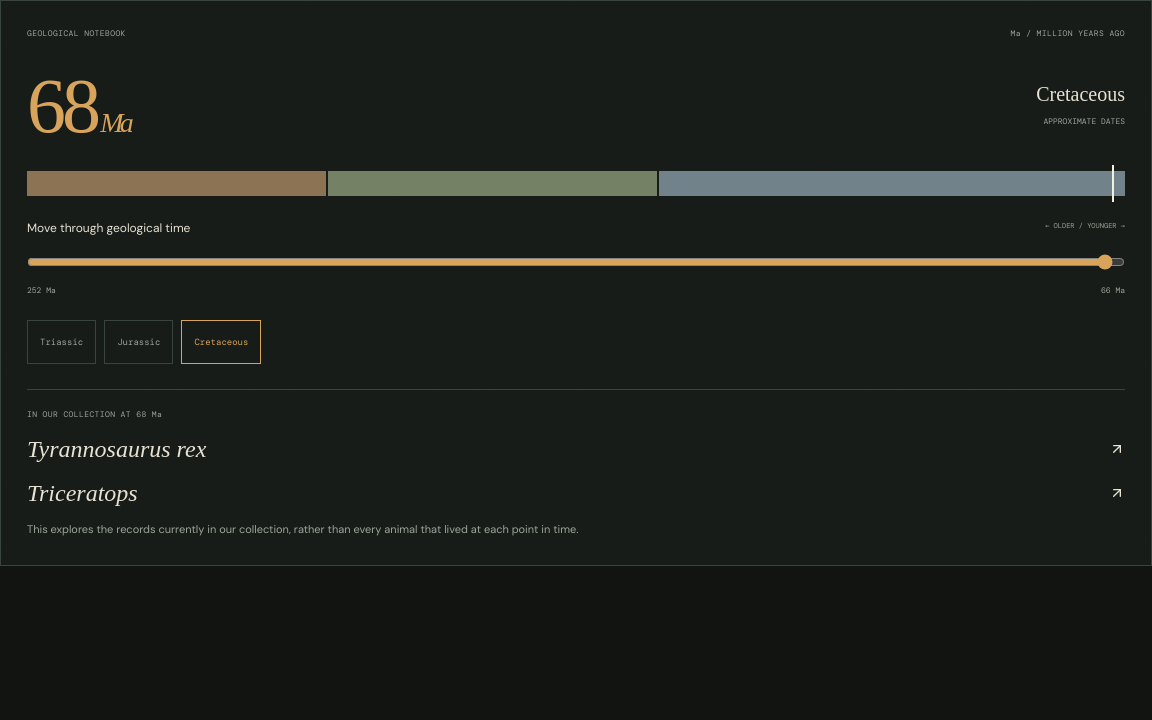
Test: deep time explorer › shows the published record at its known interval and updates the collection by age
Click the button "Jurassic".
click(139, 342)  # box left=104, top=320, right=173, bottom=364
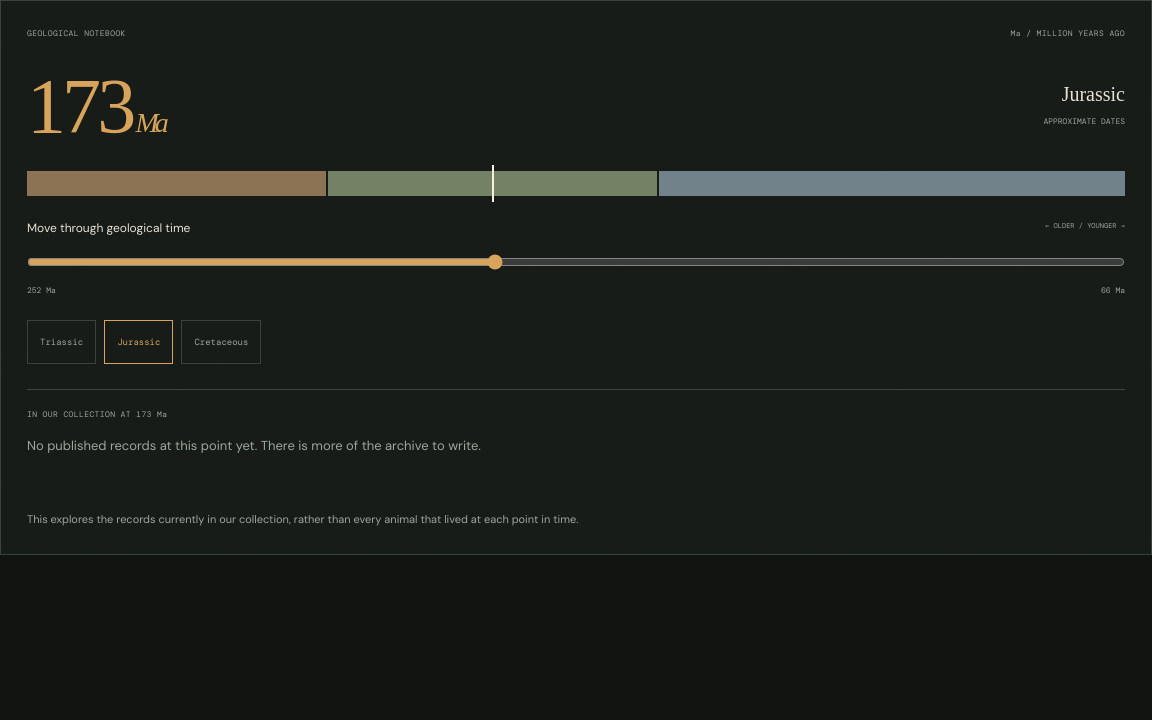
Expected: the link "Tyrannosaurus rex" is gone
Expected: the text "No published records at this point yet" is shown, left=27, top=437, right=481, bottom=454
Set the slider to "185" at (1111, 262), box left=27, top=244, right=1125, bottom=280
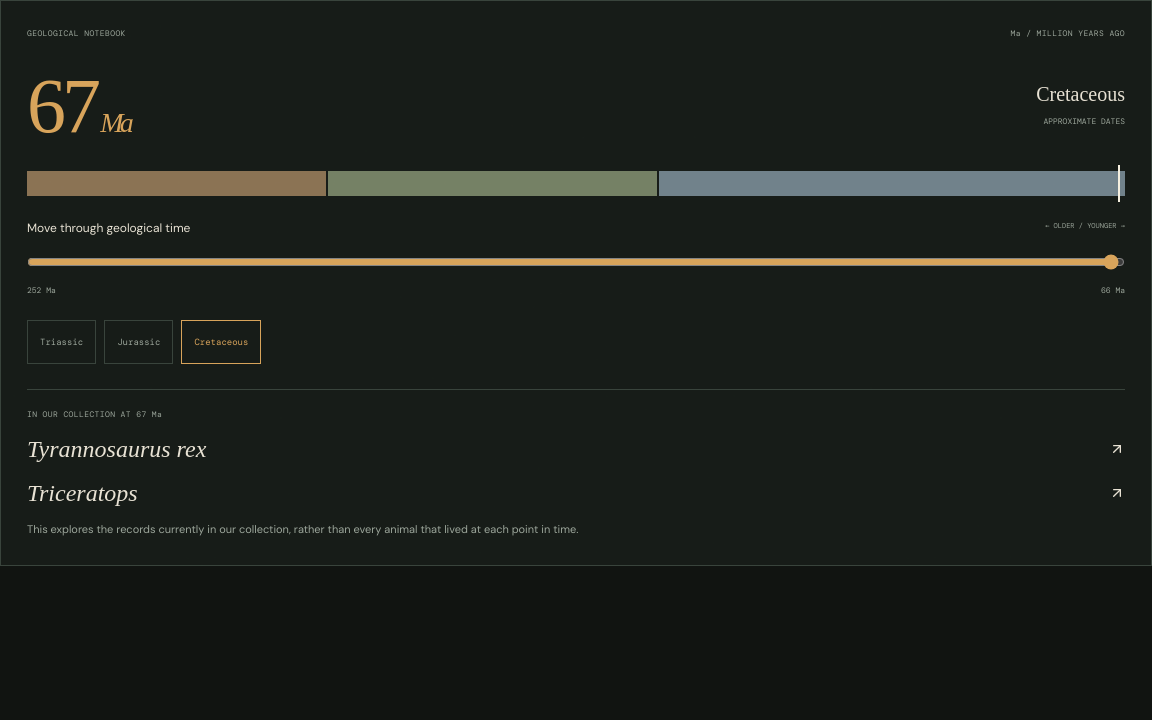
Expected: the link "Tyrannosaurus rex" is shown, left=27, top=436, right=1125, bottom=462
